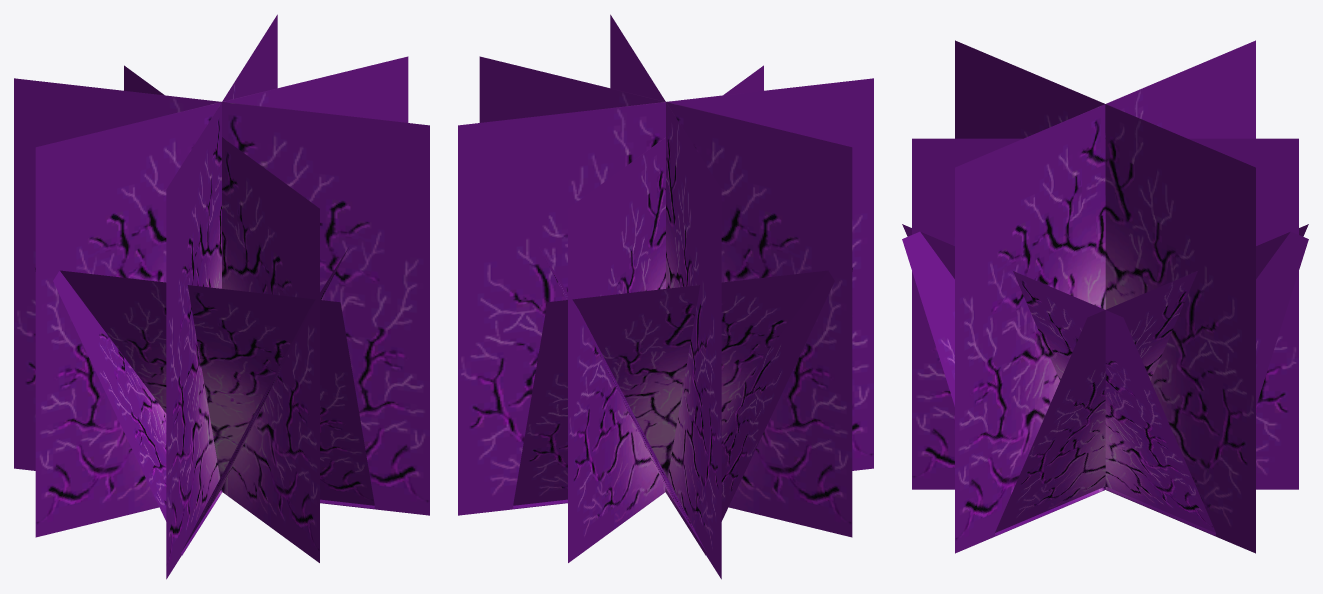
File: INST_TROLLHOLE_FANPLANTA.fbx
3 renders of one model, left to right at view 1: azimuth 30°, elevation 25°; view 2: azimuth 150°, elevation 25°; view 3: azimuth 270°, elevation 25°, orthographic.
Visible parts, largest first — view 1: INST_TROLLHOLE_FANPLANTA; view 2: INST_TROLLHOLE_FANPLANTA; view 3: INST_TROLLHOLE_FANPLANTA.
Boxes of the visible parts, x1,y1,x2,y2 form: INST_TROLLHOLE_FANPLANTA: [14, 14, 429, 579]; INST_TROLLHOLE_FANPLANTA: [458, 14, 873, 579]; INST_TROLLHOLE_FANPLANTA: [902, 40, 1308, 553].
Size of the model in its own units: 18229 by 18229 by 17415.
1 material, 1 textured.
